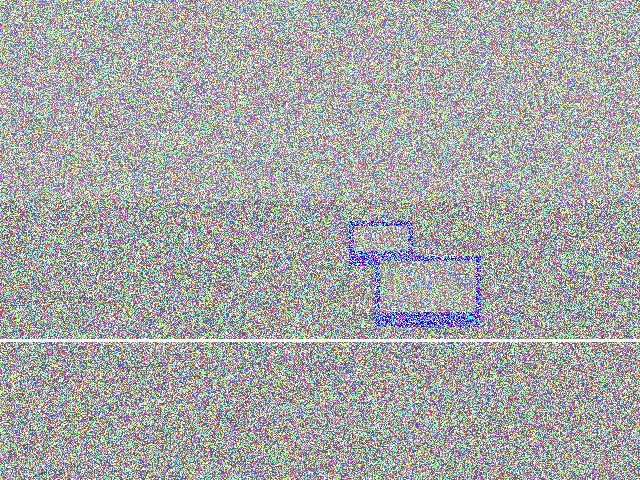bus: (56, 323, 204, 448)
car: (261, 326, 418, 414), (510, 281, 627, 345)
